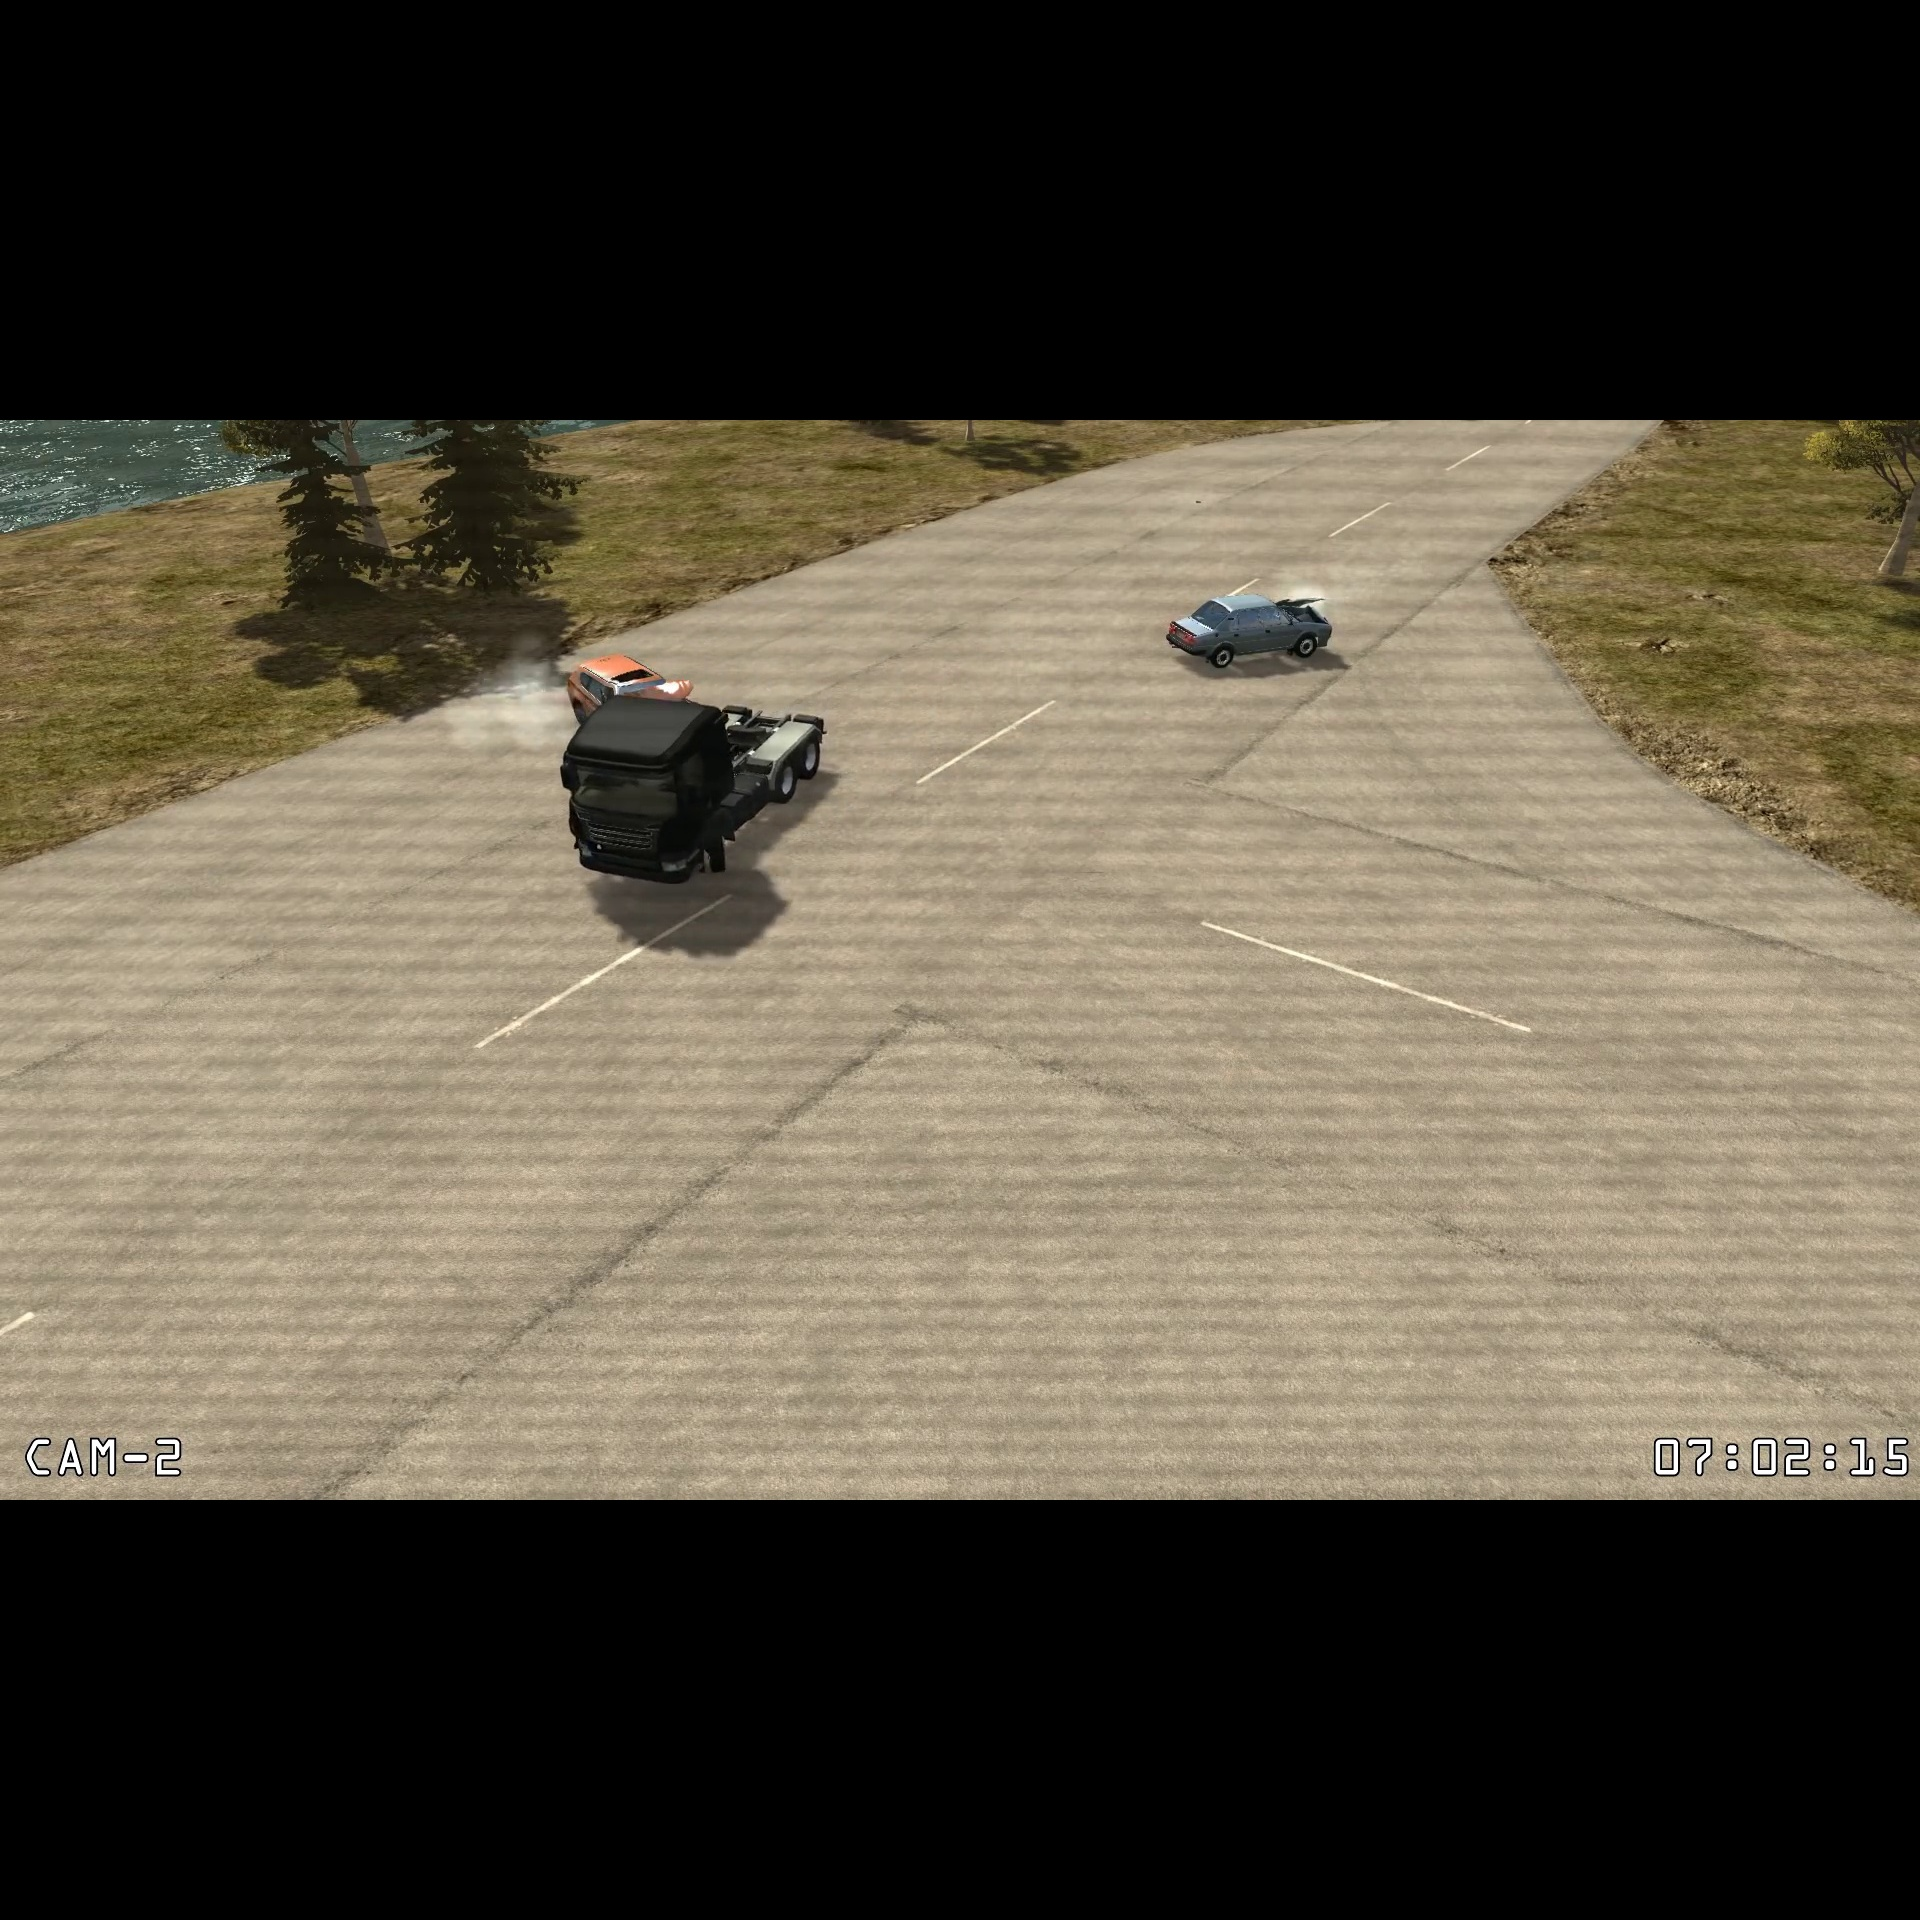vehicle: (556, 689, 839, 895), (1160, 578, 1343, 675), (559, 649, 687, 714)
